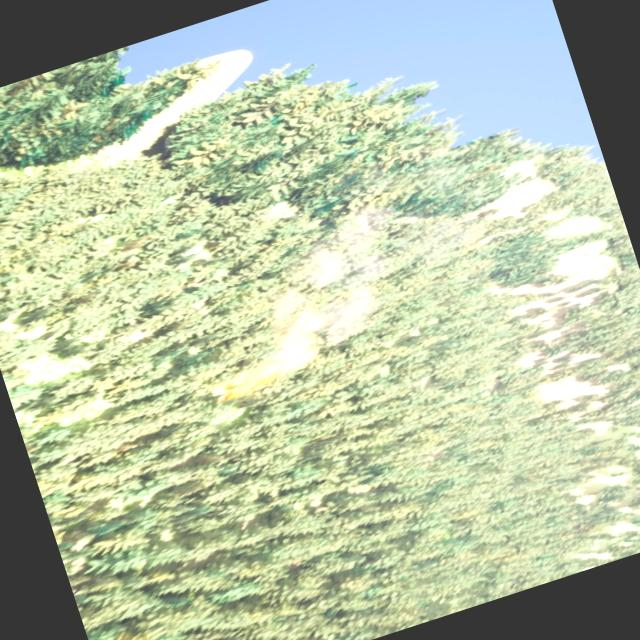fire: (215, 365, 277, 407)
smoke: (230, 205, 414, 382)
